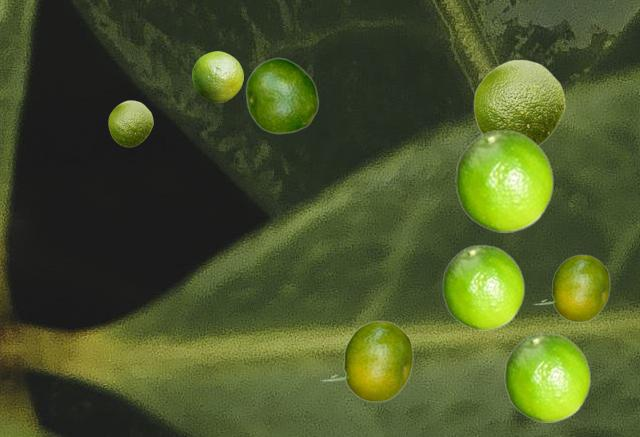calamansi: (455, 129, 553, 231), (473, 59, 564, 145), (504, 332, 590, 421), (320, 320, 412, 401), (442, 244, 524, 329), (245, 57, 318, 133), (532, 254, 609, 321), (192, 51, 242, 101), (108, 100, 152, 146)
